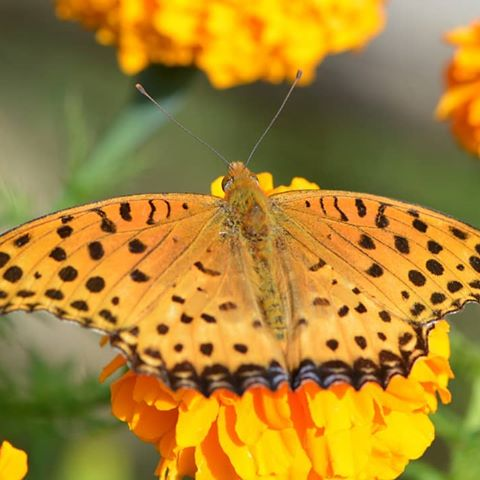Argyreus hyperbius: (1, 66, 478, 392)
butterfly: (3, 68, 480, 394)
